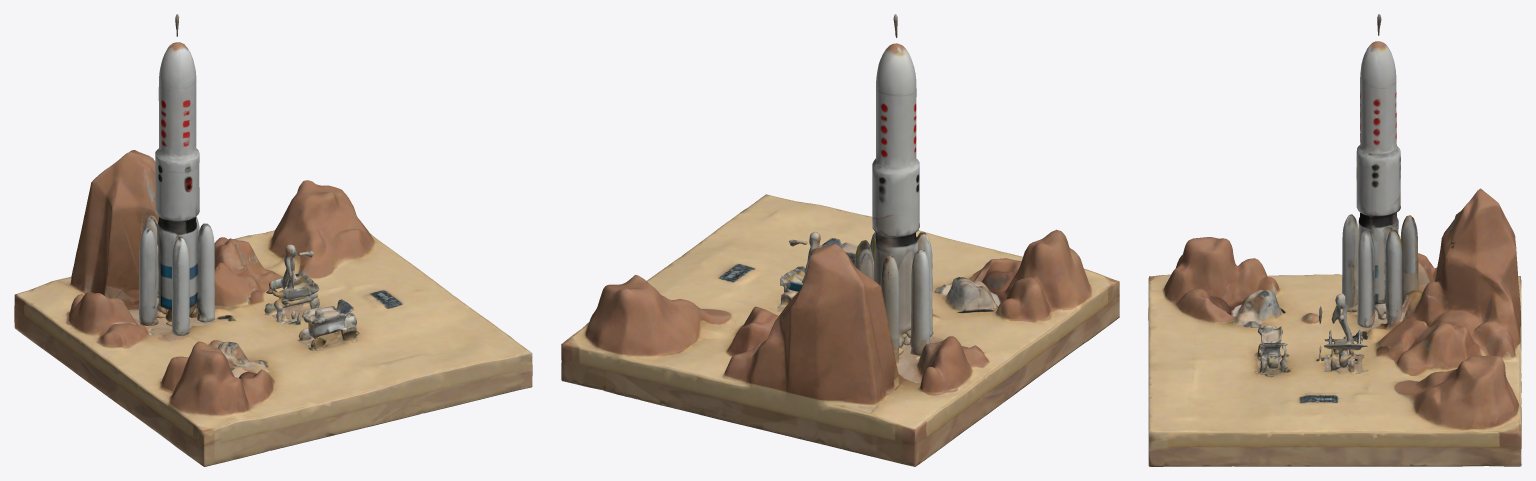
File: Spacelaunch_1125173352.glb
3 views of the same model, side by side, from view 1: azimuth 30°, elevation 25°; view 2: azimuth 150°, elevation 25°; view 3: azimuth 270°, elevation 25° (orthographic). The views are drawn at different scales.
Size of the model in its own units: 2.01 by 2.01 by 2.
Materials: 1 (1 with a texture image).
